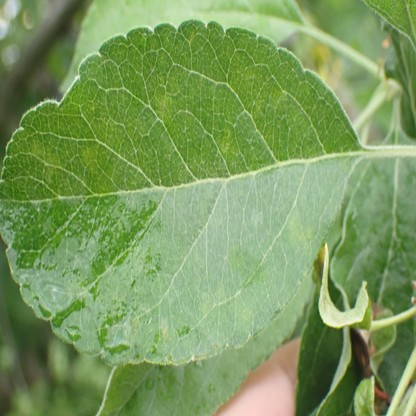scab: (229, 246, 268, 287), (30, 144, 57, 178), (289, 218, 313, 247), (155, 94, 173, 120), (234, 298, 251, 324), (82, 146, 97, 174), (199, 295, 211, 321), (220, 131, 232, 151), (160, 317, 168, 344), (129, 318, 137, 341), (214, 287, 224, 303), (211, 341, 219, 350)
